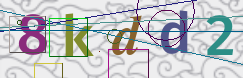2: (203, 13, 237, 58)
8: (15, 13, 49, 57)
d: (157, 8, 194, 57), (107, 12, 145, 58)
k: (60, 11, 96, 60)
